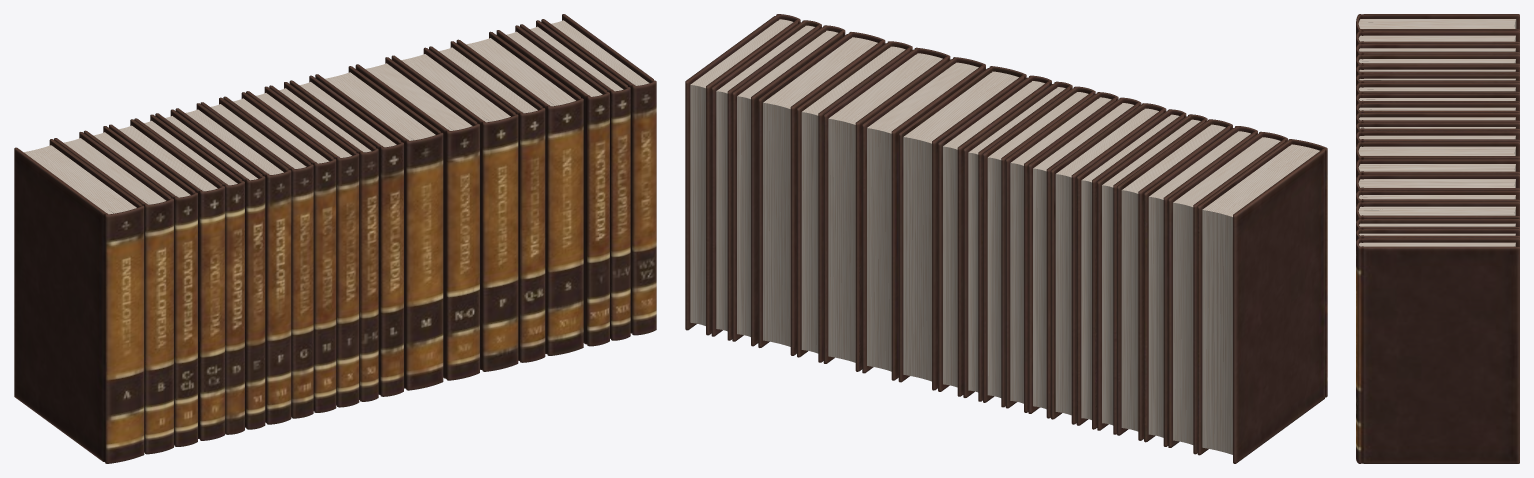
File: book_encyclopedia_set_01.glb
The picture shows the model from 3 angles, left to right: view 1: azimuth 30°, elevation 25°; view 2: azimuth 150°, elevation 25°; view 3: azimuth 270°, elevation 25°; orthographic projection. The views are drawn at different scales.
Parts seen in each view (by area): view 1: book_encyclopedia_set_01_book01, book_encyclopedia_set_01_book13, book_encyclopedia_set_01_book15, book_encyclopedia_set_01_book17, book_encyclopedia_set_01_book14, book_encyclopedia_set_01_book02, book_encyclopedia_set_01_book16, book_encyclopedia_set_01_book04, book_encyclopedia_set_01_book18, book_encyclopedia_set_01_book20, book_encyclopedia_set_01_book07, book_encyclopedia_set_01_book12 (+8 smaller); view 2: book_encyclopedia_set_01_book01, book_encyclopedia_set_01_book13, book_encyclopedia_set_01_book15, book_encyclopedia_set_01_book17, book_encyclopedia_set_01_book14, book_encyclopedia_set_01_book02, book_encyclopedia_set_01_book04, book_encyclopedia_set_01_book16, book_encyclopedia_set_01_book18, book_encyclopedia_set_01_book20, book_encyclopedia_set_01_book07, book_encyclopedia_set_01_book12 (+8 smaller); view 3: book_encyclopedia_set_01_book20, book_encyclopedia_set_01_book13, book_encyclopedia_set_01_book01, book_encyclopedia_set_01_book17, book_encyclopedia_set_01_book15, book_encyclopedia_set_01_book14, book_encyclopedia_set_01_book02, book_encyclopedia_set_01_book16, book_encyclopedia_set_01_book03, book_encyclopedia_set_01_book12, book_encyclopedia_set_01_book07, book_encyclopedia_set_01_book04 (+8 smaller).
Boxes of the visible parts, <box> form: book_encyclopedia_set_01_book01: <box>14,139,144,463</box>; book_encyclopedia_set_01_book13: <box>315,66,443,390</box>; book_encyclopedia_set_01_book15: <box>391,47,518,371</box>; book_encyclopedia_set_01_book17: <box>456,31,583,355</box>; book_encyclopedia_set_01_book14: <box>355,57,479,380</box>; book_encyclopedia_set_01_book02: <box>54,132,173,454</box>; book_encyclopedia_set_01_book16: <box>429,41,545,362</box>; book_encyclopedia_set_01_book04: <box>109,119,224,440</box>; book_encyclopedia_set_01_book18: <box>496,25,609,346</box>; book_encyclopedia_set_01_book20: <box>541,14,656,335</box>; book_encyclopedia_set_01_book07: <box>175,103,291,424</box>; book_encyclopedia_set_01_book12: <box>289,75,403,396</box>; book_encyclopedia_set_01_book01: <box>1197,139,1327,463</box>; book_encyclopedia_set_01_book13: <box>898,66,1026,390</box>; book_encyclopedia_set_01_book15: <box>823,47,950,371</box>; book_encyclopedia_set_01_book17: <box>758,32,885,355</box>; book_encyclopedia_set_01_book14: <box>862,57,985,380</box>; book_encyclopedia_set_01_book02: <box>1168,131,1287,454</box>; book_encyclopedia_set_01_book04: <box>1117,119,1232,440</box>; book_encyclopedia_set_01_book16: <box>797,41,912,362</box>; book_encyclopedia_set_01_book18: <box>732,25,845,346</box>; book_encyclopedia_set_01_book20: <box>685,14,800,335</box>; book_encyclopedia_set_01_book07: <box>1051,103,1166,424</box>; book_encyclopedia_set_01_book12: <box>938,75,1051,396</box>; book_encyclopedia_set_01_book20: <box>1356,238,1519,463</box>; book_encyclopedia_set_01_book13: <box>1356,142,1519,164</box>; book_encyclopedia_set_01_book01: <box>1356,14,1519,35</box>; book_encyclopedia_set_01_book17: <box>1356,202,1519,222</box>; book_encyclopedia_set_01_book15: <box>1356,174,1519,194</box>; book_encyclopedia_set_01_book14: <box>1356,159,1519,180</box>; book_encyclopedia_set_01_book02: <box>1356,30,1519,47</box>; book_encyclopedia_set_01_book16: <box>1356,190,1519,208</box>; book_encyclopedia_set_01_book03: <box>1356,43,1519,58</box>; book_encyclopedia_set_01_book12: <box>1356,131,1519,148</box>; book_encyclopedia_set_01_book07: <box>1356,82,1519,96</box>; book_encyclopedia_set_01_book04: <box>1356,54,1519,68</box>.
Bounding box in the file's own units: 0.5513 × 0.2374 × 0.1631.
2 materials, 2 textured.
